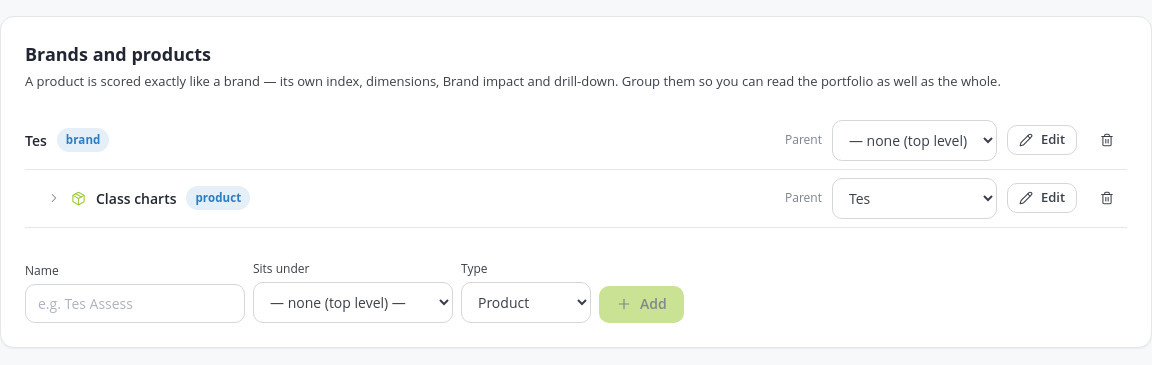
Test: deleting › backs out on Keep
The image size is (1152, 365).
Expected: the list item "Class charts" is shown, x1=96 y1=188 x2=176 y2=208
Click the button named "Delete" in the row of "Class charts": [1107, 198] box x1=1087 y1=178 x2=1127 y2=218
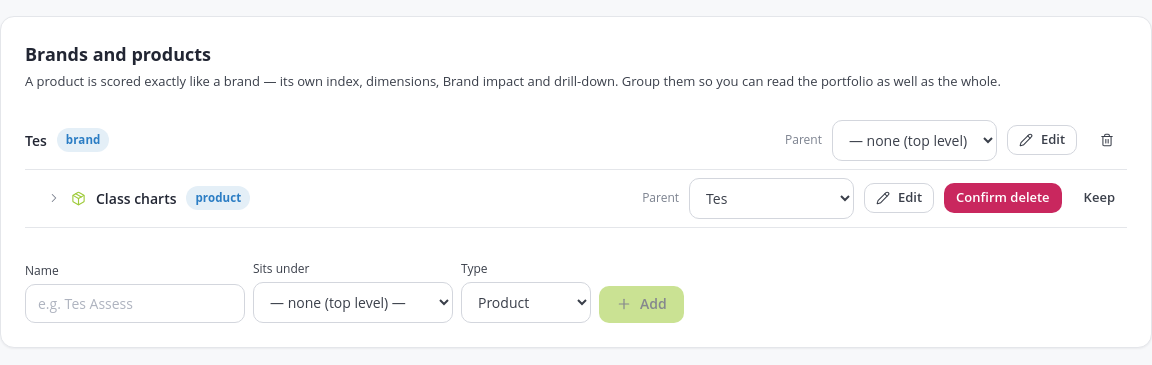
Click the button "Keep": [1099, 198] box x1=1072 y1=183 x2=1127 y2=213
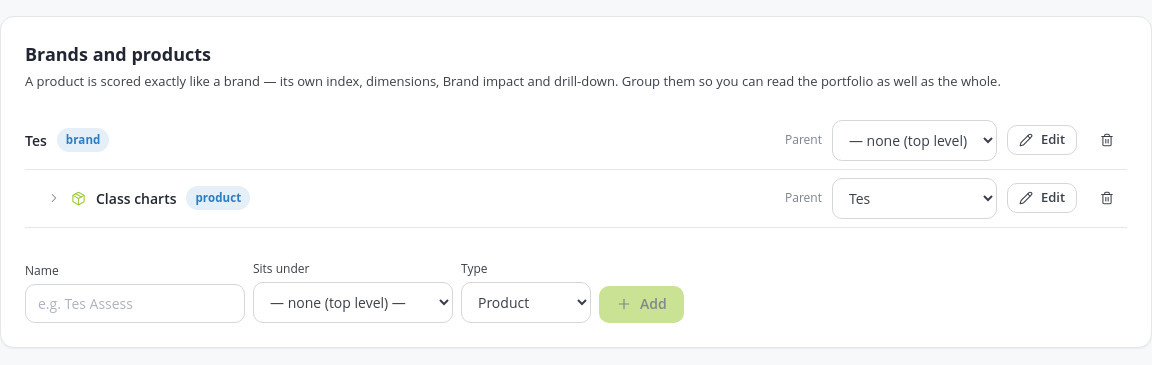
Now the button "Confirm delete" is gone
